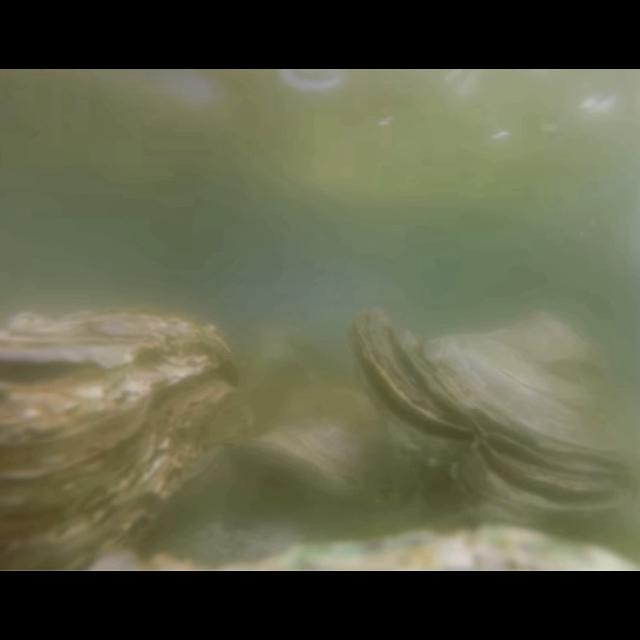Oyster-Closed: (0, 308, 256, 571)
Oyster-Indeterminate: (244, 386, 426, 512)
Oyster-Open: (346, 308, 640, 530)
